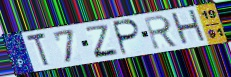7: (52, 27, 78, 65)
H: (169, 8, 209, 48)
P: (112, 18, 142, 57)
R: (142, 14, 181, 51)
T: (25, 31, 51, 69)
Z: (84, 24, 120, 59)
